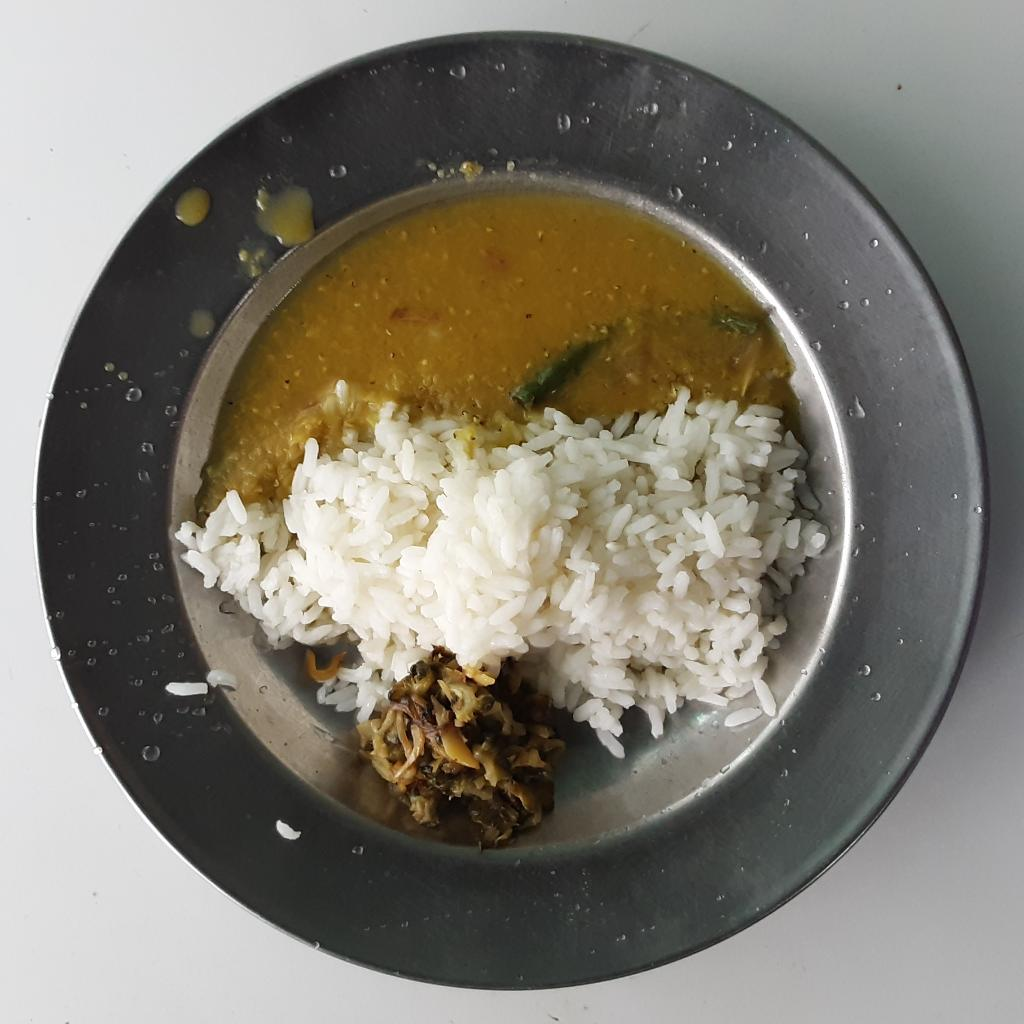daal: (187, 191, 800, 516)
korola-vaji: (351, 640, 566, 848)
rice: (173, 383, 830, 758), (163, 664, 242, 699), (280, 816, 301, 842)
